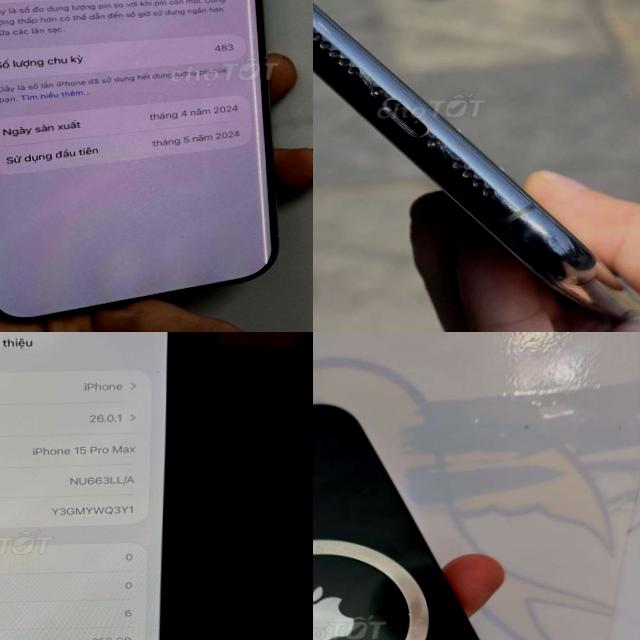scratch: (483, 185, 563, 253), (332, 59, 380, 88), (430, 138, 464, 164)
screen_defect: (225, 0, 282, 276)
